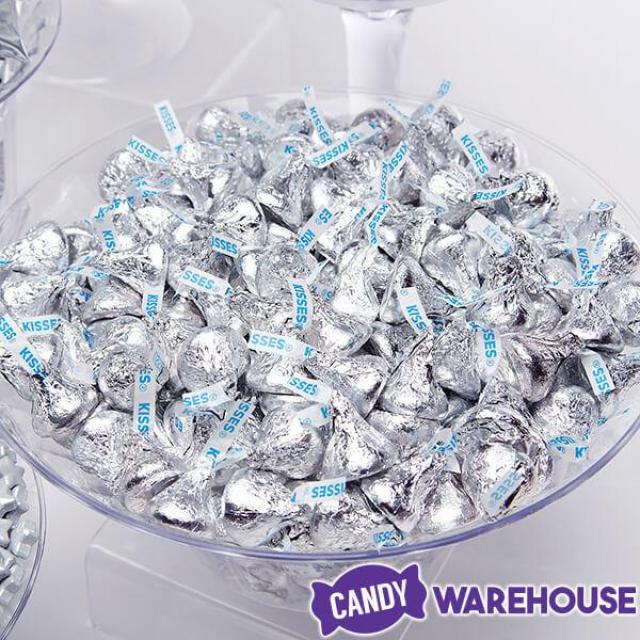kisses: (216, 468, 332, 549), (15, 351, 108, 442), (65, 406, 154, 500), (352, 436, 441, 529), (313, 394, 401, 486), (372, 333, 457, 422), (457, 434, 540, 522), (348, 199, 443, 268), (414, 225, 492, 308), (176, 322, 256, 402), (111, 432, 188, 515), (503, 328, 586, 403), (92, 234, 177, 300), (532, 383, 596, 469), (0, 216, 75, 289), (301, 287, 374, 361), (154, 457, 223, 535), (88, 142, 166, 206), (581, 225, 637, 308), (84, 346, 164, 404), (258, 148, 314, 227), (196, 195, 268, 256), (323, 138, 392, 198), (249, 240, 317, 299), (500, 165, 558, 233)
